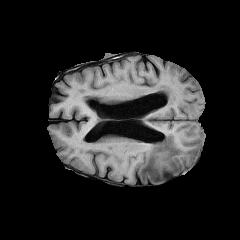glioma: (140, 134, 182, 181)
